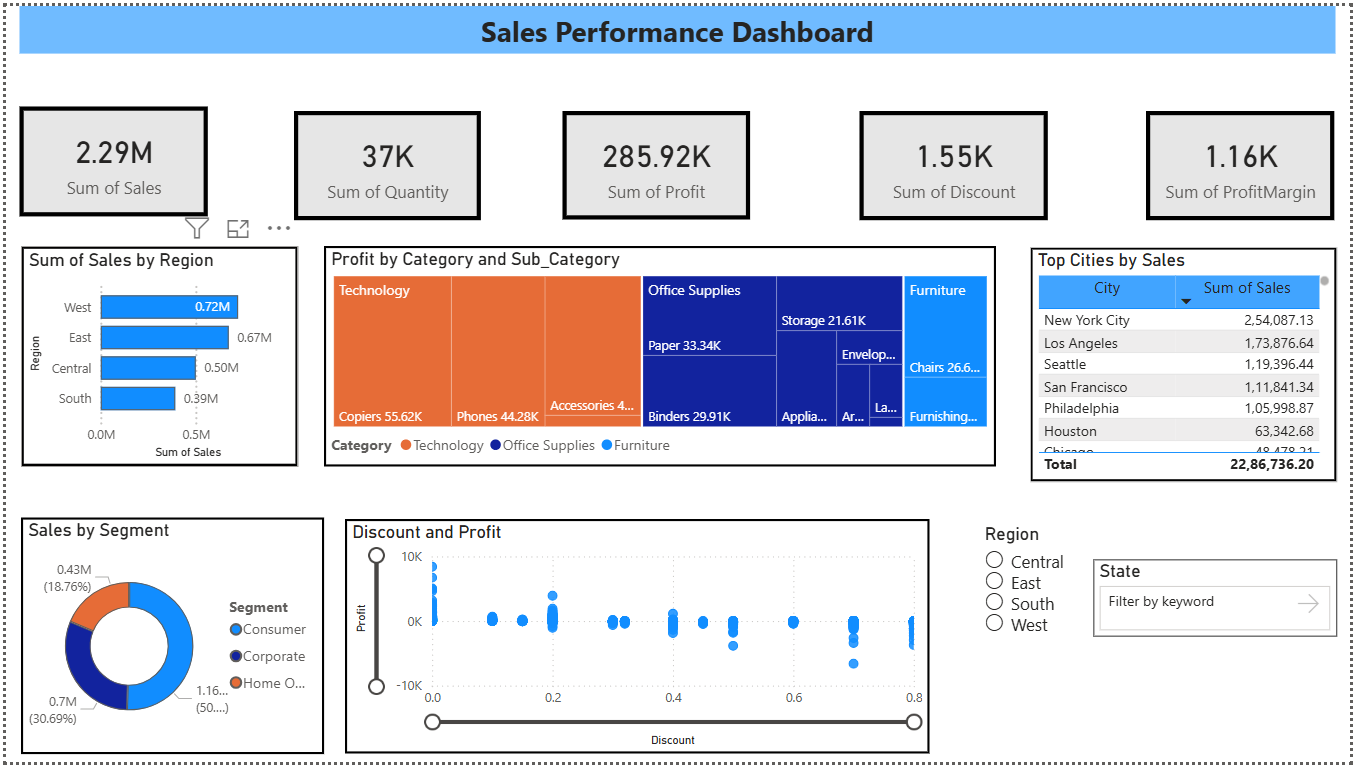

What the dashboard file says about the page in this screenshot:
{"tool":"powerbi","page":{"name":"Page 1","canvas":[1280,720],"ordinal":0},"visuals":[{"type":"card","fields":{"Values":["Sum(SampleSuperstore.Sales)"]},"box":[13.3,95,179.3,104.8],"z":0,"group":"g1"},{"type":"card","fields":{"Values":["Sum(SampleSuperstore.Quantity)"]},"box":[274.8,99.7,178,104],"z":1000,"group":"g1"},{"type":"card","fields":{"Values":["Sum(SampleSuperstore.Profit)"]},"box":[531.1,98.9,178.3,103.3],"z":2000,"group":"g1"},{"type":"card","fields":{"Values":["Sum(SampleSuperstore.Discount)"]},"box":[813.4,99.7,179.6,104],"z":3000,"group":"g1"},{"type":"card","fields":{"Values":["Sum(SampleSuperstore.ProfitMargin)"]},"box":[1085.9,99.7,179.6,104],"z":4000,"group":"g1"},{"type":"clusteredBarChart","fields":{"Y":["Sum(SampleSuperstore.Sales)"],"Category":["SampleSuperstore.Region"]},"box":[13.7,228.3,264.3,210],"z":5000},{"type":"treemap","title":"Profit by Category and Sub_Category","fields":{"Group":["SampleSuperstore.Category"],"Details":["SampleSuperstore.Sub_Category"],"Values":["Sum(SampleSuperstore.Profit)"]},"box":[302.3,228.3,640,210],"z":6000},{"type":"tableEx","title":"Top Cities by Sales","fields":{"Values":["SampleSuperstore.City","Sum(SampleSuperstore.Sales)"]},"box":[975.2,229.8,291.4,222.9],"z":7000},{"type":"donutChart","title":"Sales by Segment","fields":{"Category":["SampleSuperstore.Segment"],"Y":["Sum(SampleSuperstore.Sales)"]},"box":[14,486.7,288.3,225],"z":8000},{"type":"scatterChart","fields":{"X":["SampleSuperstore.Discount"],"Y":["SampleSuperstore.Profit"]},"box":[322.3,488.3,556.7,223.3],"z":9000},{"type":"listSlicer","fields":{"Values":["SampleSuperstore.Region"]},"box":[927.3,493.3,93.3,190],"z":9001},{"type":"textSlicer","fields":{"Values":["SampleSuperstore.State"]},"box":[1035.6,526.7,231.7,73.3],"z":9002},{"type":"group","id":"g1","title":"Group 1","box":[13.3,95,1251.7,108.3],"z":9003},{"type":"textbox","box":[13.3,0,1253.3,45],"z":9004}]}

Visuals, with their boxes in screenshot pixels (x1, y1, x2, y2), scaled from the page's 1280x720 canvas onto the 1356x766 screenshot:
card - Sum(SampleSuperstore.Sales): 14,101,204,213
card - Sum(SampleSuperstore.Quantity): 291,106,480,217
card - Sum(SampleSuperstore.Profit): 563,105,752,215
card - Sum(SampleSuperstore.Discount): 862,106,1052,217
card - Sum(SampleSuperstore.ProfitMargin): 1150,106,1341,217
clusteredBarChart - Sum(SampleSuperstore.Sales) x SampleSuperstore.Region: 15,243,295,466
"Profit by Category and Sub_Category" treemap: 320,243,998,466
"Top Cities by Sales" tableEx: 1033,244,1342,482
"Sales by Segment" donutChart: 15,518,320,757
scatterChart - SampleSuperstore.Discount x SampleSuperstore.Profit: 341,519,931,757
listSlicer - SampleSuperstore.Region: 982,525,1081,727
textSlicer - SampleSuperstore.State: 1097,560,1343,638
"Group 1" group: 14,101,1340,216
textbox: 14,0,1342,48
